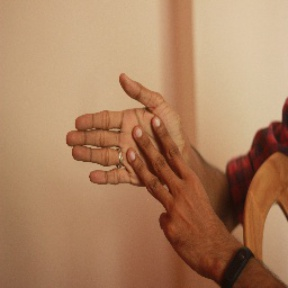M: (63, 71, 190, 204)
